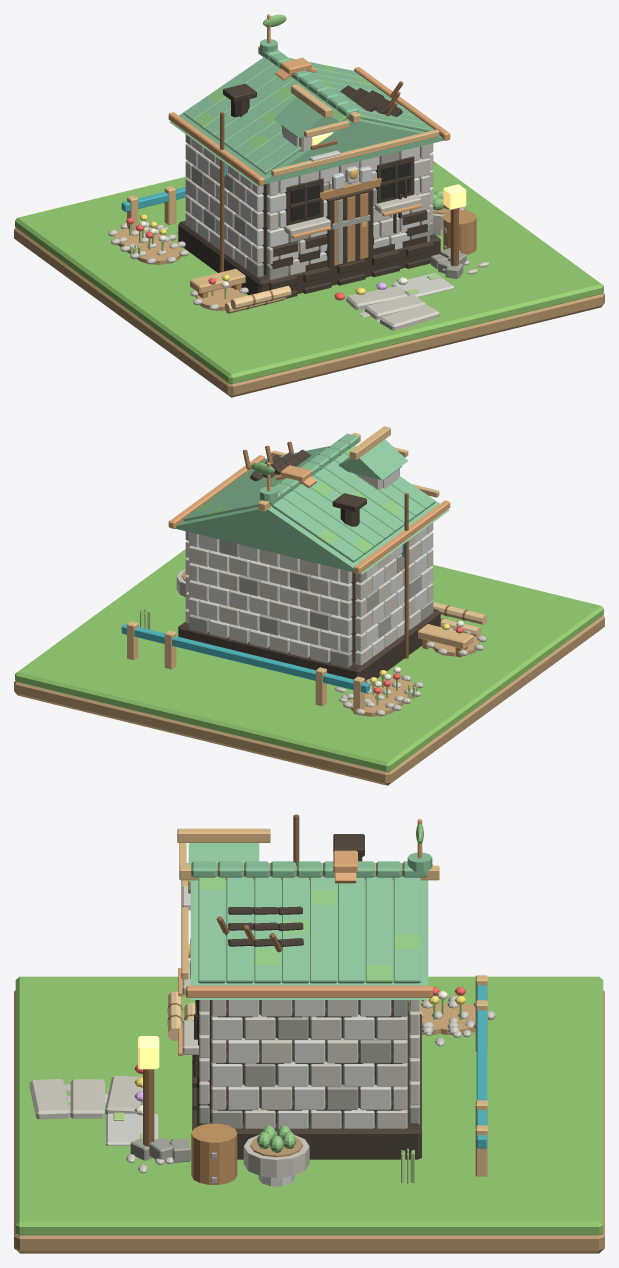
File: stone_house_l01_damaged.glb
The picture shows the model from 3 angles, top to bottom: view 1: azimuth 30°, elevation 25°; view 2: azimuth 150°, elevation 25°; view 3: azimuth 270°, elevation 25°; orthographic projection. The views are drawn at different scales.
Visible parts, largest first — view 1: stone_house_component_pilot_grass_tile.002, stone_house_component_pilot_earth_tile.002, pilot_stone_house_l01_roof_gable_roof.001, pilot_stone_house_l01_spec_stone_block_medium_medium_foundat, pilot_stone_house_l01_stone_door.001, pilot_stone_house_l01_roof_roof_front_trim.001, pilot_stone_house_l01_roof_dormer_gable_roof.001, pilot_stone_house_l01_roof_eave_-1.001, pilot_stone_house_l01_yard_barrel_barrel_body.001, stone_house_component_pilot_path_stone_03.002, pilot_stone_house_l01_stone_l_window_pane.001, pilot_stone_house_l01_decor_moss_slab_slab.001 (+17 smaller); view 2: stone_house_component_pilot_grass_tile.002, stone_house_component_pilot_earth_tile.002, pilot_stone_house_l01_roof_gable_roof.001, pilot_stone_house_l01_spec_stone_block_medium_medium_foundat, pilot_stone_house_l01_yard_fence_rail.001, pilot_stone_house_l01_roof_dormer_gable_roof.001, pilot_stone_house_l01_roof_eave_-1.001, pilot_stone_house_l01_yard_bench_seat.001, pilot_stone_house_l01_roof_eave_+1.001, pilot_stone_house_l01_yard_marker_flag_pole.001, pilot_stone_house_l01_roof_dormer_roof_ridge.001; view 3: stone_house_component_pilot_grass_tile.002, stone_house_component_pilot_earth_tile.002, pilot_stone_house_l01_spec_stone_block_medium_medium_foundat, pilot_stone_house_l01_roof_gable_roof.001, pilot_stone_house_l01_roof_eave_+1.001, pilot_stone_house_l01_yard_barrel_barrel_body.001, pilot_stone_house_l01_yard_fence_rail.001, pilot_stone_house_l01_decor_seed_planter_bowl.001, stone_house_component_pilot_path_stone_03.002, pilot_stone_house_l01_roof_dormer_roof_ridge.001, pilot_stone_house_l01_roof_dormer_gable_roof.001, stone_house_component_pilot_path_stone_02.002 (+36 smaller).
Part boxes in pixels (<box>): stone_house_component_pilot_grass_tile.002: <box>15,161,603,384</box>; stone_house_component_pilot_earth_tile.002: <box>14,227,604,397</box>; pilot_stone_house_l01_roof_gable_roof.001: <box>169,57,443,185</box>; pilot_stone_house_l01_spec_stone_block_medium_medium_foundat: <box>178,220,440,295</box>; pilot_stone_house_l01_stone_door.001: <box>326,188,373,267</box>; pilot_stone_house_l01_roof_roof_front_trim.001: <box>271,129,439,176</box>; pilot_stone_house_l01_roof_dormer_gable_roof.001: <box>273,97,341,137</box>; pilot_stone_house_l01_roof_eave_-1.001: <box>168,112,264,185</box>; pilot_stone_house_l01_yard_barrel_barrel_body.001: <box>443,210,476,254</box>; stone_house_component_pilot_path_stone_03.002: <box>380,304,439,330</box>; pilot_stone_house_l01_stone_l_window_pane.001: <box>290,184,319,221</box>; pilot_stone_house_l01_decor_moss_slab_slab.001: <box>391,273,454,297</box>; stone_house_component_pilot_grass_tile.002: <box>15,549,603,772</box>; stone_house_component_pilot_earth_tile.002: <box>14,615,604,785</box>; pilot_stone_house_l01_roof_gable_roof.001: <box>175,476,449,574</box>; pilot_stone_house_l01_spec_stone_block_medium_medium_foundat: <box>178,609,440,681</box>; pilot_stone_house_l01_yard_fence_rail.001: <box>121,624,369,693</box>; pilot_stone_house_l01_roof_dormer_gable_roof.001: <box>338,439,407,479</box>; pilot_stone_house_l01_roof_eave_-1.001: <box>354,500,450,573</box>; pilot_stone_house_l01_yard_bench_seat.001: <box>418,624,473,648</box>; pilot_stone_house_l01_roof_eave_+1.001: <box>168,455,264,528</box>; pilot_stone_house_l01_yard_marker_flag_pole.001: <box>404,493,408,658</box>; pilot_stone_house_l01_roof_dormer_roof_ridge.001: <box>349,426,390,459</box>; stone_house_component_pilot_grass_tile.002: <box>15,976,603,1235</box>; stone_house_component_pilot_earth_tile.002: <box>14,990,604,1253</box>; pilot_stone_house_l01_spec_stone_block_medium_medium_foundat: <box>197,1011,421,1159</box>; pilot_stone_house_l01_roof_gable_roof.001: <box>190,880,428,999</box>; pilot_stone_house_l01_roof_eave_+1.001: <box>186,985,432,997</box>; pilot_stone_house_l01_yard_barrel_barrel_body.001: <box>191,1123,237,1184</box>; pilot_stone_house_l01_yard_fence_rail.001: <box>476,985,487,1148</box>; pilot_stone_house_l01_decor_seed_planter_bowl.001: <box>243,1132,309,1177</box>; stone_house_component_pilot_path_stone_03.002: <box>29,1079,70,1119</box>; pilot_stone_house_l01_roof_dormer_roof_ridge.001: <box>177,828,270,842</box>; pilot_stone_house_l01_roof_dormer_gable_roof.001: <box>188,843,259,881</box>; stone_house_component_pilot_path_stone_02.002: <box>70,1079,104,1118</box>.
Bounding box in the file's own units: 3.6 × 2.1 × 3.6.
